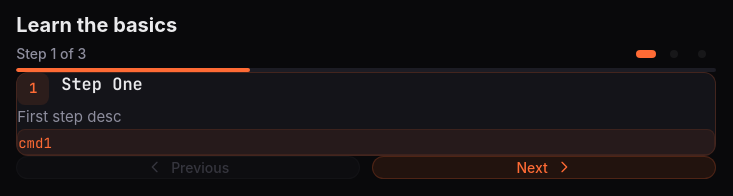
Test: StepThrough › navigates with Next button
Click the button "Next".
click(544, 167)  # box 372,156 -> 716,179
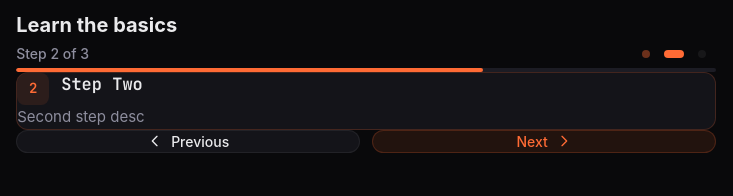
Expected: the heading "Step Two" is shown, 61,72 -> 143,96
